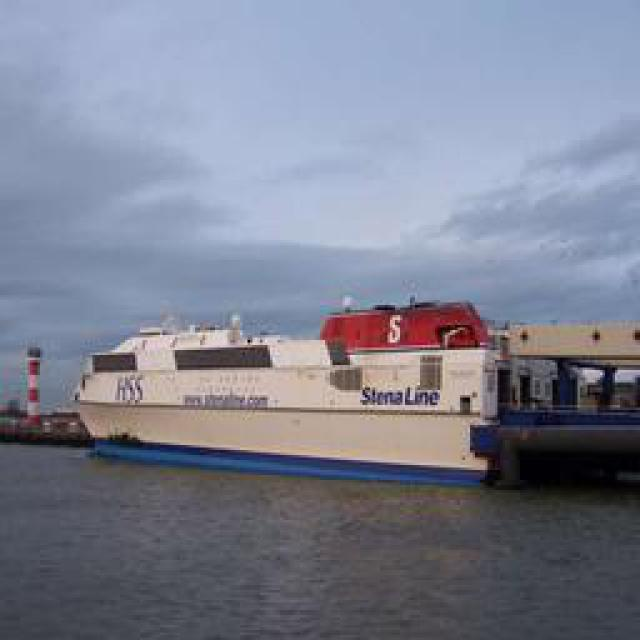Ship: (75, 292, 510, 490)
